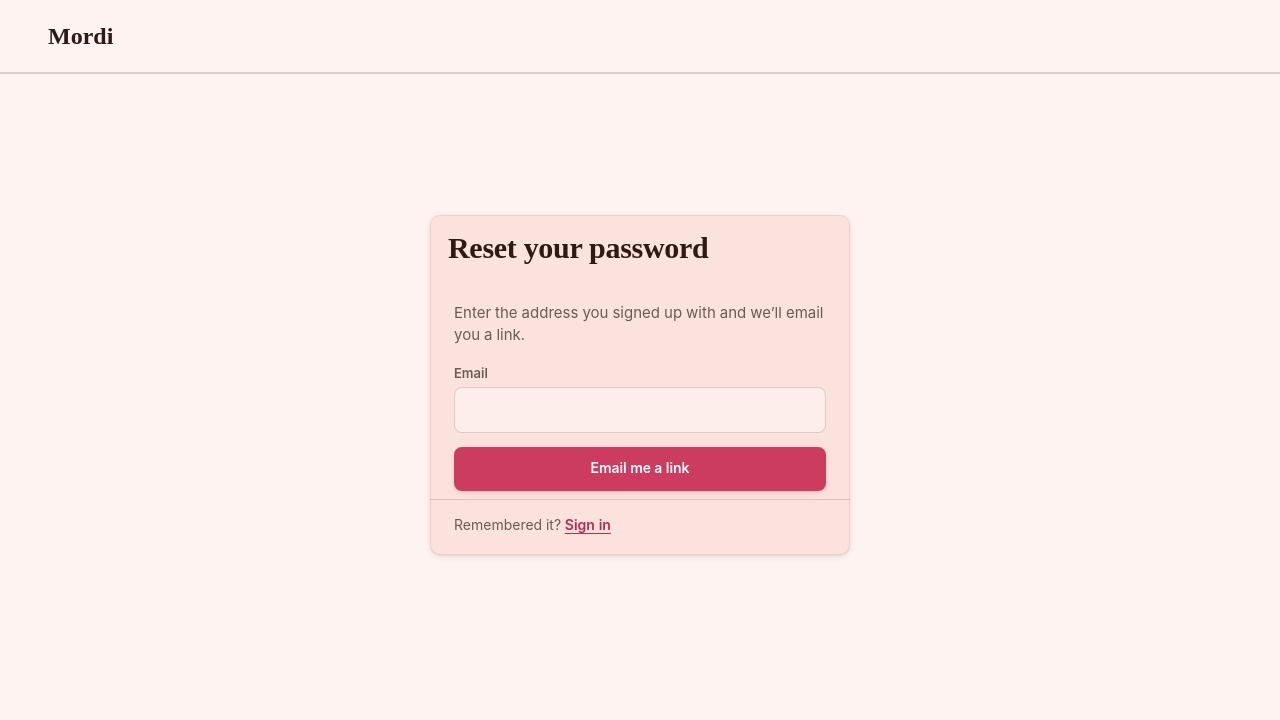
Test: ForgotPassword › sends the address and shows the same confirmation whatever the server knows
Step 1. Type "ana@example.com" into the field labelled "Email" → (640, 410), box 454,387 -> 826,433
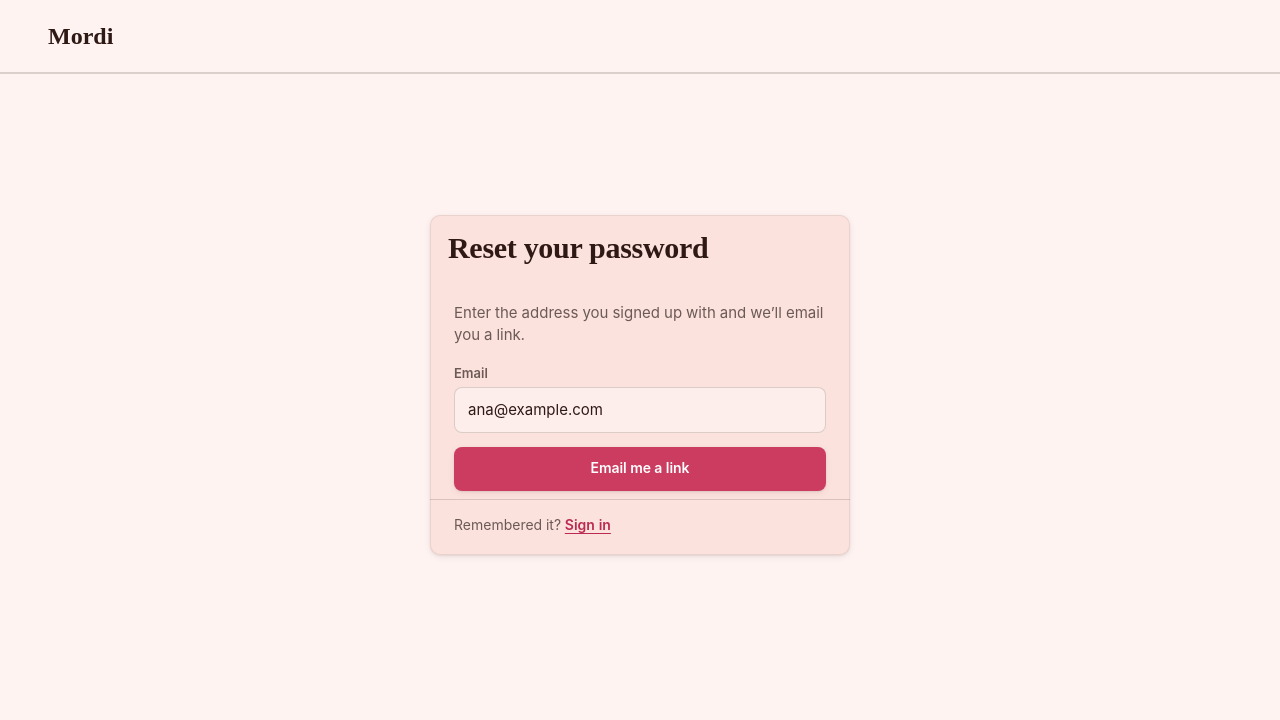
Step 2. Click the button "Email me a link" → (640, 469), box 454,447 -> 826,491
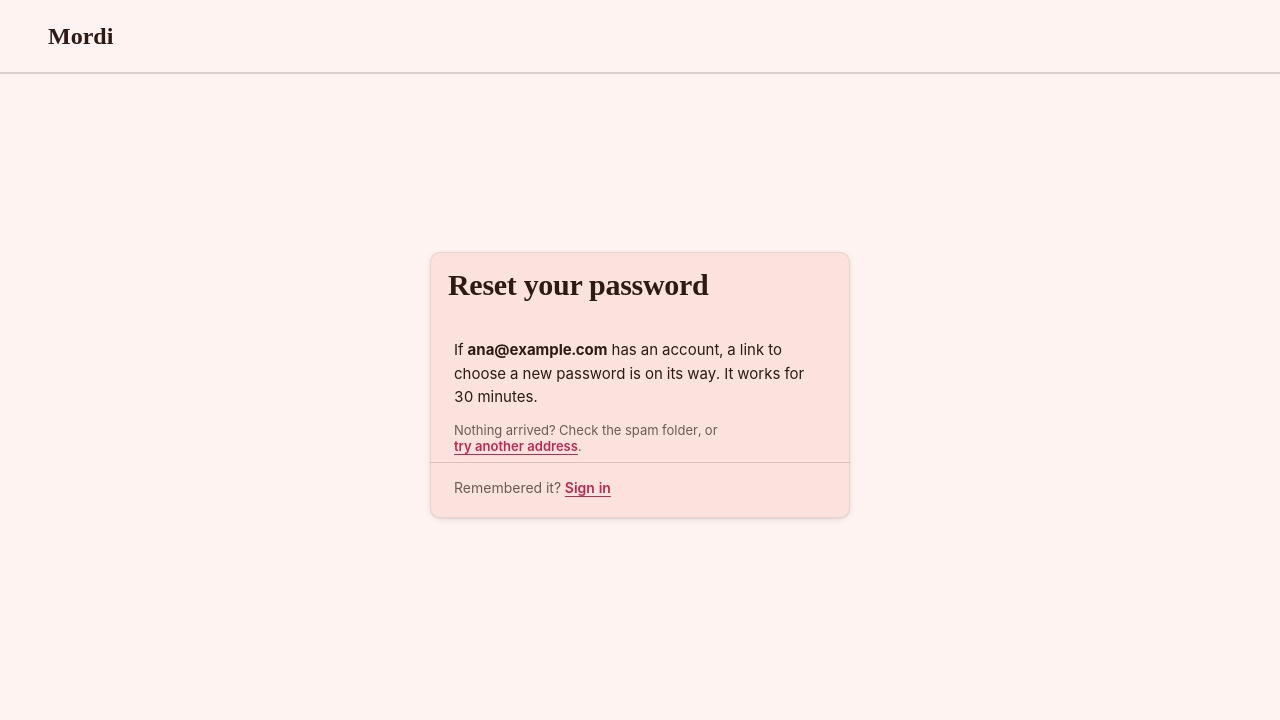
Expected: the message shows "on its way", 454,340 -> 804,406
Expected: the message shows "ana@example.com", 468,340 -> 608,359
Expected: the text labelled "email" is gone
